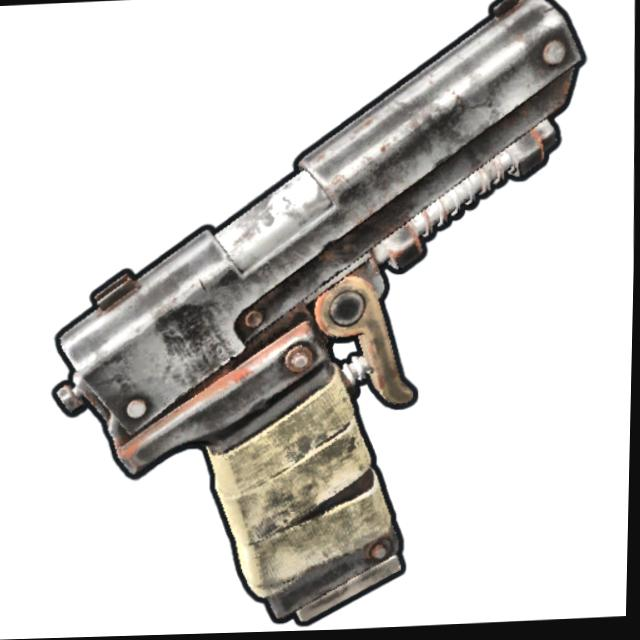pistol: (57, 0, 596, 626)
